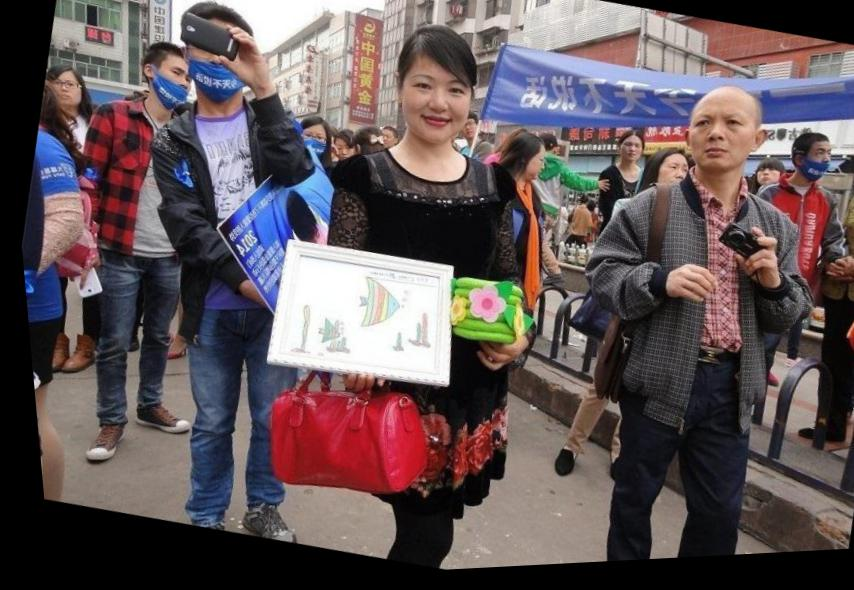NONE: (393, 68, 473, 150), (677, 108, 755, 188), (650, 162, 692, 207), (45, 74, 83, 114), (515, 154, 547, 191), (325, 141, 356, 173), (750, 172, 777, 196), (618, 145, 641, 167), (376, 134, 397, 158), (459, 123, 477, 145)
OK: (294, 126, 326, 163)
WRONG: (180, 20, 258, 109), (132, 53, 202, 121), (792, 150, 833, 194)
